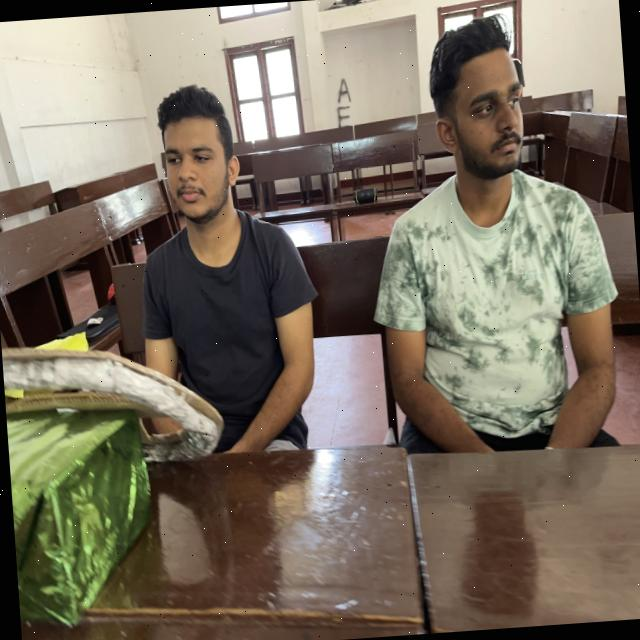Helmet: (368, 173, 624, 486), (134, 219, 326, 478)
